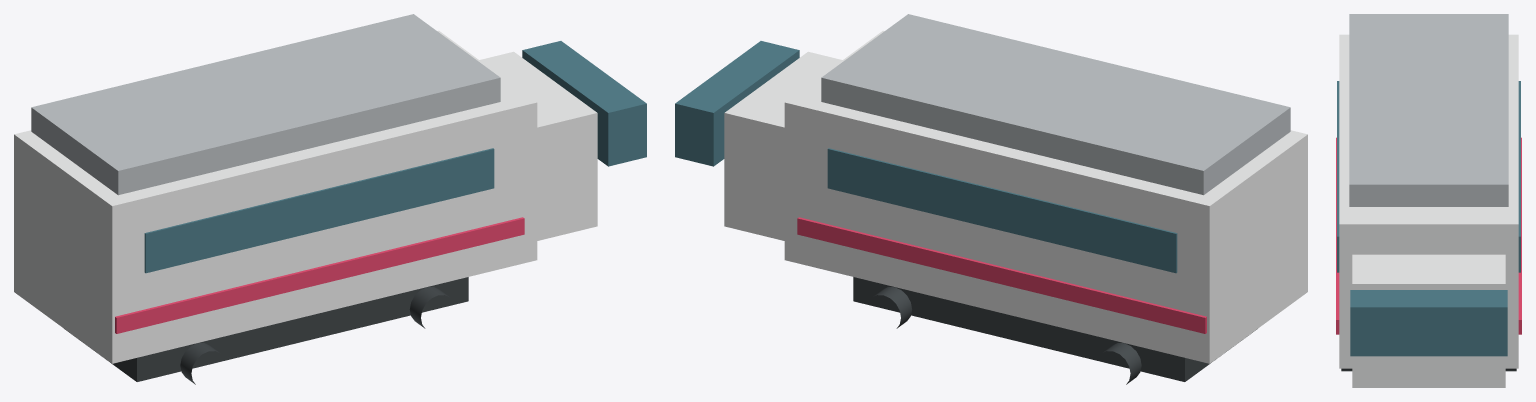
Rendered from talent2.glb.
3 views of the same model, side by side, from view 1: azimuth 30°, elevation 25°; view 2: azimuth 150°, elevation 25°; view 3: azimuth 270°, elevation 25° (orthographic). The views are drawn at different scales.
Parts seen in each view (by area): view 1: body_shell, roof, window_band, front_nose, undercarriage, livery_stripe, front_glass, bogie_front_0, bogie_front_1; view 2: body_shell, roof, window_band, front_nose, undercarriage, livery_stripe, front_glass, bogie_back_0, bogie_back_1; view 3: roof, body_shell, front_glass, front_nose, window_band, livery_stripe.
Part boxes in pixels (x1,y1,x2,y2): body_shell: (14,30,537,363); roof: (31,14,500,195); window_band: (144,148,494,273); front_nose: (479,51,597,240); undercarriage: (65,277,468,381); livery_stripe: (115,217,524,333); front_glass: (522,41,646,166); bogie_front_0: (180,343,220,384); bogie_front_1: (409,287,449,328); body_shell: (784,30,1307,363); roof: (821,14,1290,195); window_band: (827,148,1177,273); front_nose: (724,51,842,240); undercarriage: (853,277,1256,381); livery_stripe: (797,217,1206,333); front_glass: (675,41,799,166); bogie_back_0: (1101,343,1141,384); bogie_back_1: (872,287,912,328); roof: (1349,14,1508,206); body_shell: (1339,34,1518,368); front_glass: (1350,290,1507,356); front_nose: (1352,254,1505,387); window_band: (1337,81,1520,272); livery_stripe: (1336,137,1521,334).
Size of the model in its own units: 2.8 by 1.16 by 0.91.
